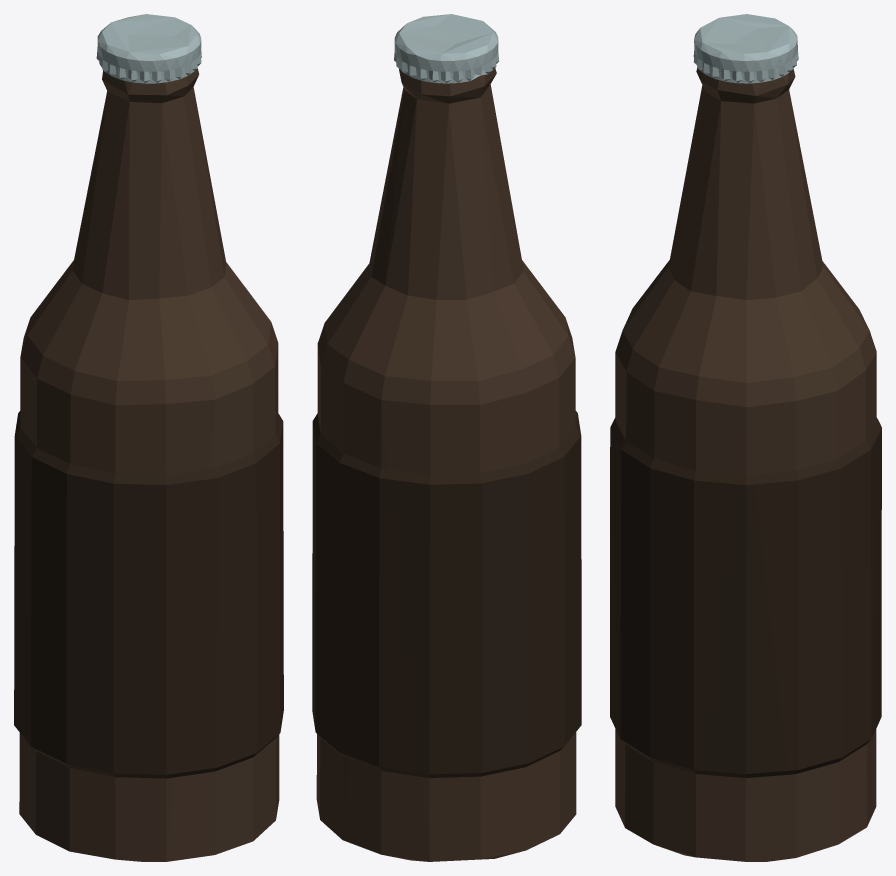
Rendered from Piwo.fbx.
3 renders of one model, left to right at view 1: azimuth 30°, elevation 25°; view 2: azimuth 150°, elevation 25°; view 3: azimuth 270°, elevation 25°, orthographic.
Parts seen in each view (by area): view 1: Bottle; view 2: Bottle; view 3: Bottle.
Part boxes in pixels (<box>): Bottle: <box>14,14,283,861</box>; Bottle: <box>312,14,581,861</box>; Bottle: <box>610,14,881,861</box>.
Size of the model in its own units: 14.26 by 45.37 by 14.26.
